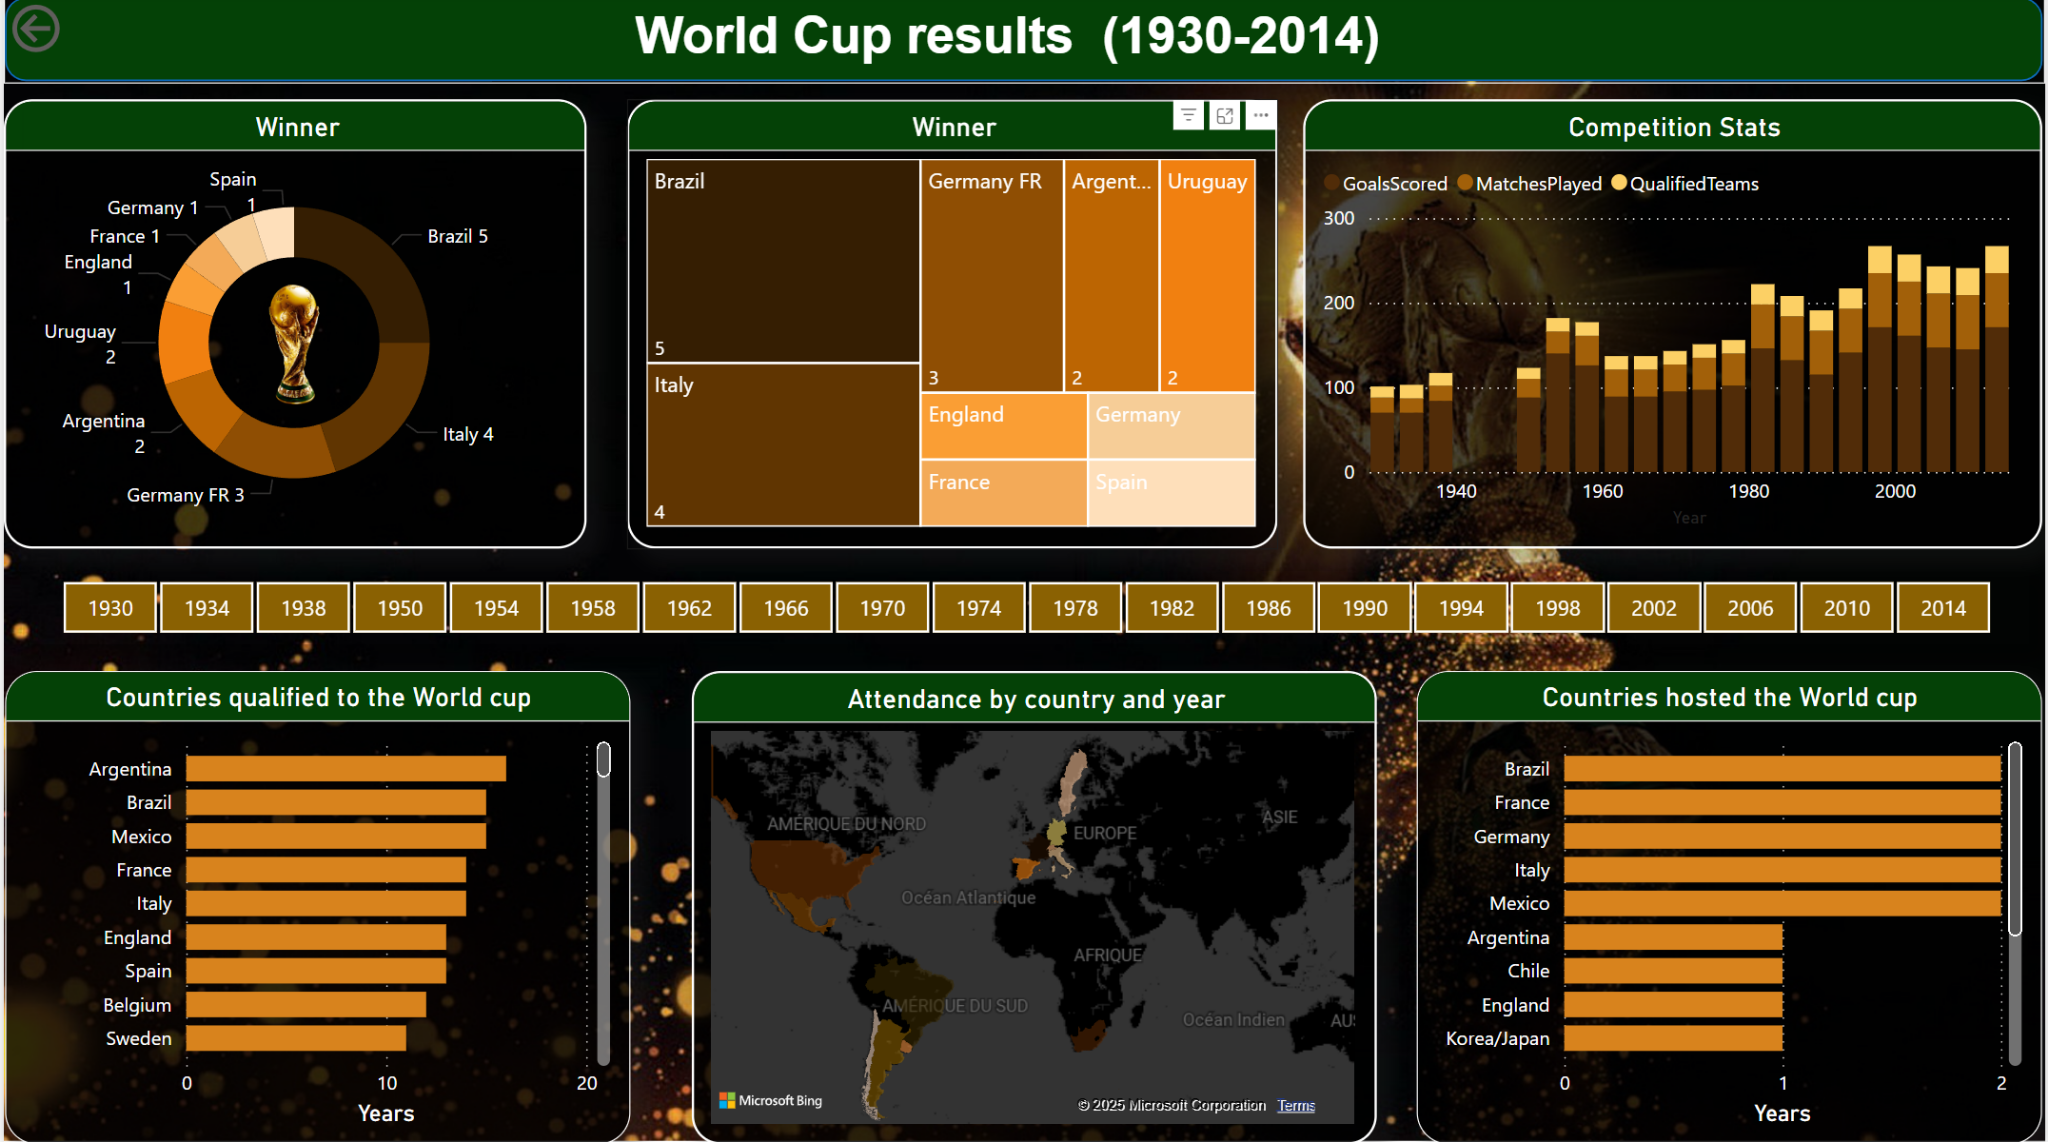

This screenshot's page, from the dashboard's own definition file:
{"tool":"powerbi","page":{"name":"Page 1","canvas":[1280,720],"ordinal":0},"visuals":[{"type":"columnChart","title":"Competition Stats","fields":{"Category":["WorldCups.Year"],"Y":["Sum(WorldCups.GoalsScored)","Sum(WorldCups.MatchesPlayed)","Sum(WorldCups.QualifiedTeams)"]},"box":[814.6,64.8,463.2,281.9],"z":0},{"type":"donutChart","title":"Winner","fields":{"Y":["CountNonNull(WorldCups.Winner)"],"Category":["WorldCups.Winner"]},"box":[0,64.8,365.5,281.9],"z":1000},{"type":"barChart","title":"Countries qualified to the World cup","fields":{"Category":["WorldCupMatches.Away Team Name"],"Y":["Count(WorldCupMatches.Year)"]},"box":[0.9,422.8,391.8,296.9],"z":2000},{"type":"barChart","title":"Countries hosted the World cup","fields":{"Category":["WorldCups.Country"],"Y":["CountNonNull(WorldCups.Country)"]},"box":[886,422.8,391.8,296.9],"z":3000},{"type":"filledMap","title":"Attendance by country and year","fields":{"Category":["WorldCups.Country"],"Series":["WorldCups.Attendance"]},"box":[431.2,422.8,429.4,296.9],"z":4000},{"type":"image","box":[117.4,173.8,129.7,88.3],"z":5000},{"type":"shape","box":[0,0,1279.6,54.5],"z":6000},{"type":"textbox","box":[390.8,1.9,555.3,52.6],"z":7000},{"type":"slicer","fields":{"Values":["WorldCups.Year"]},"box":[11.3,359.8,1258,46],"z":8000},{"type":"actionButton","box":[0,0,100,40],"z":9000},{"type":"treemap","title":"Winner","fields":{"Group":["WorldCups.Winner"],"Values":["CountNonNull(WorldCups.Winner)"]},"box":[390.8,64.8,407.8,281.9],"z":10000}]}

Visuals, with their boxes in screenshot pixels (x1, y1, x2, y2), scaled from the page's 1280x720 canvas onto the 2048x1142 screenshot:
"Competition Stats" columnChart: (1303, 103, 2044, 550)
"Winner" donutChart: (0, 103, 585, 550)
"Countries qualified to the World cup" barChart: (1, 671, 628, 1141)
"Countries hosted the World cup" barChart: (1418, 671, 2044, 1141)
"Attendance by country and year" filledMap: (690, 671, 1377, 1141)
image: (188, 276, 395, 416)
shape: (0, 0, 2047, 86)
textbox: (625, 3, 1514, 86)
slicer - WorldCups.Year: (18, 571, 2031, 644)
actionButton: (0, 0, 160, 63)
"Winner" treemap: (625, 103, 1278, 550)
